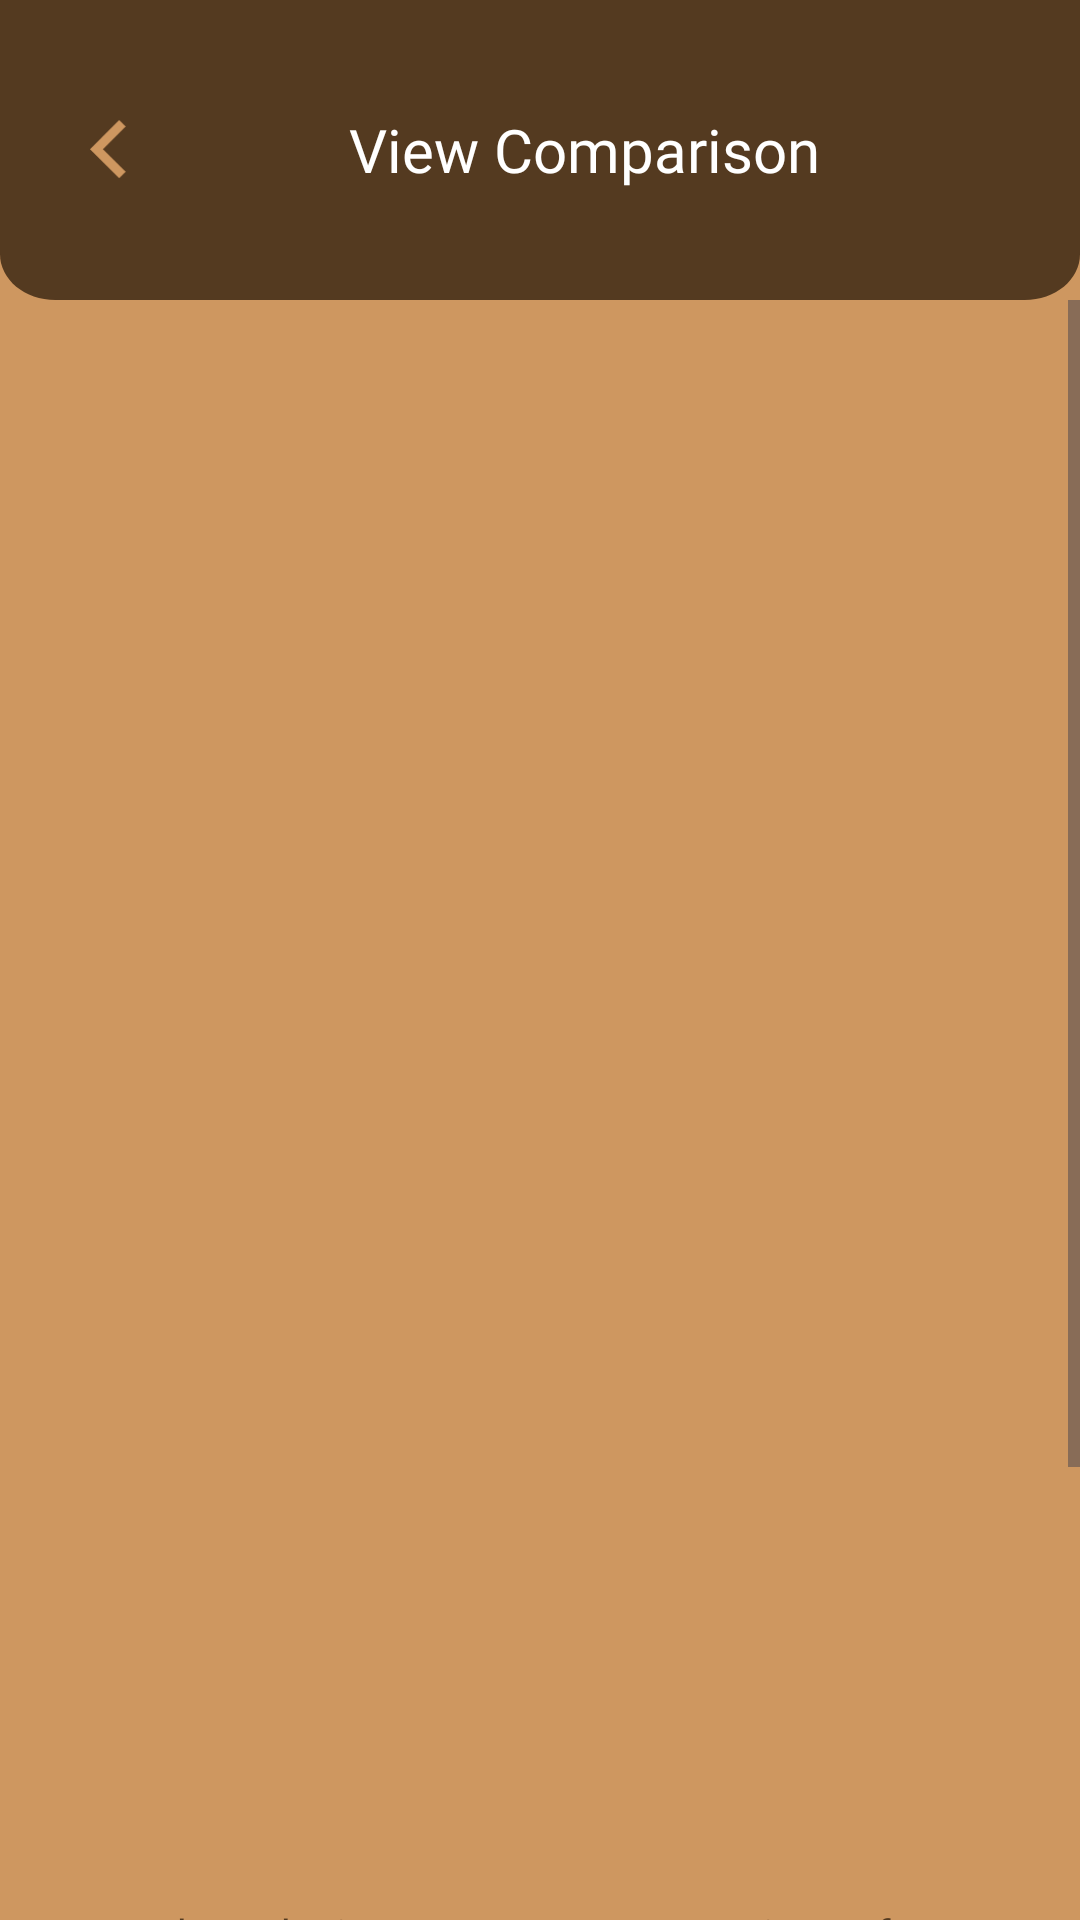

Named icons in this screenshot (1080×1920) and their bounding boxes, region(x1, y1, x2, y2):
back: region(90, 120, 126, 178)
